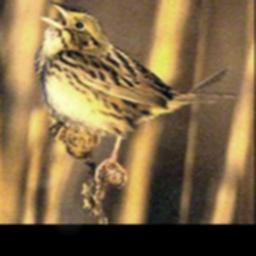Sparrow: (36, 0, 241, 186)
